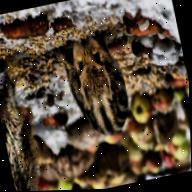boar: (46, 27, 153, 143)
